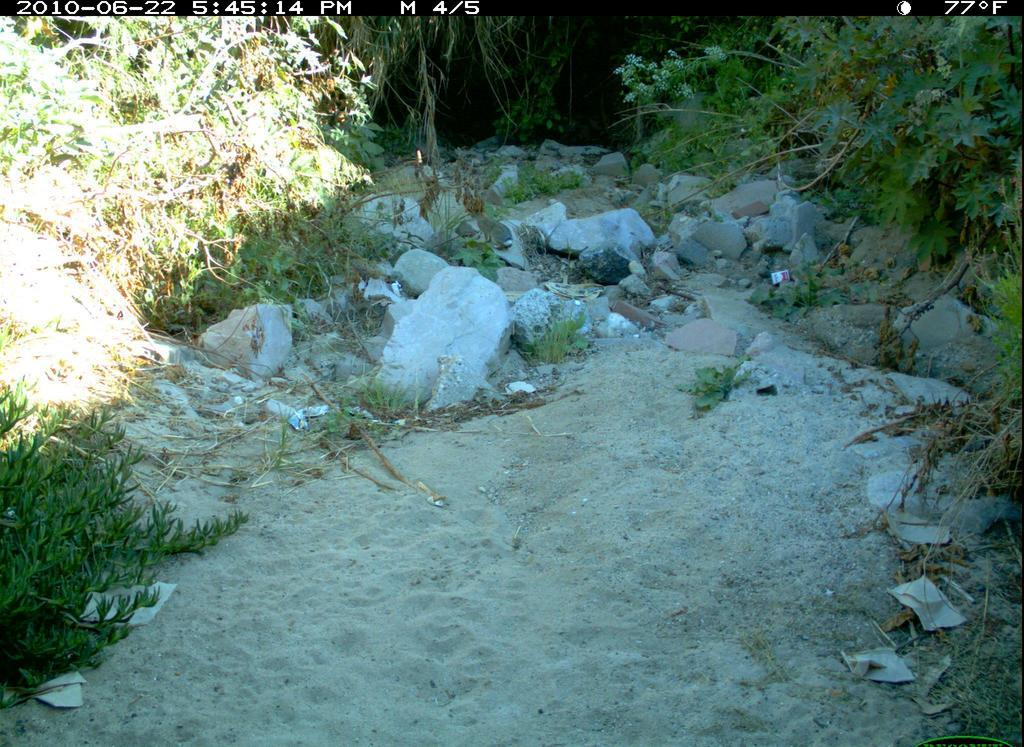rabbit: (468, 198, 524, 259)
